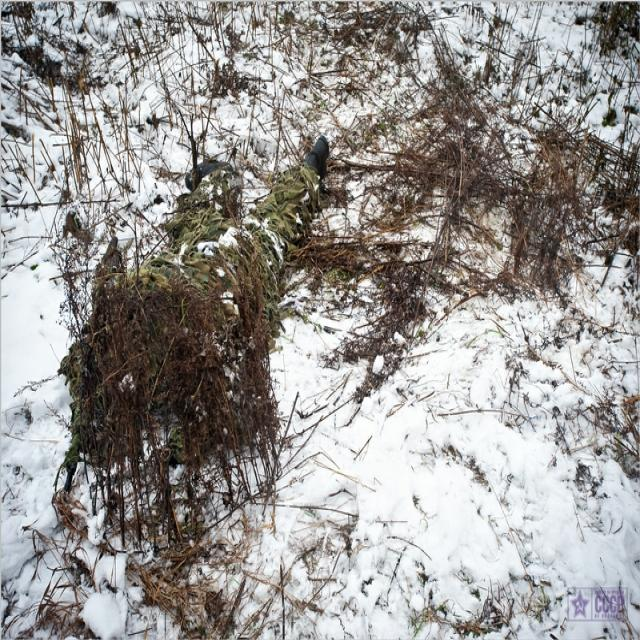Camouflage: (60, 142, 327, 634)
